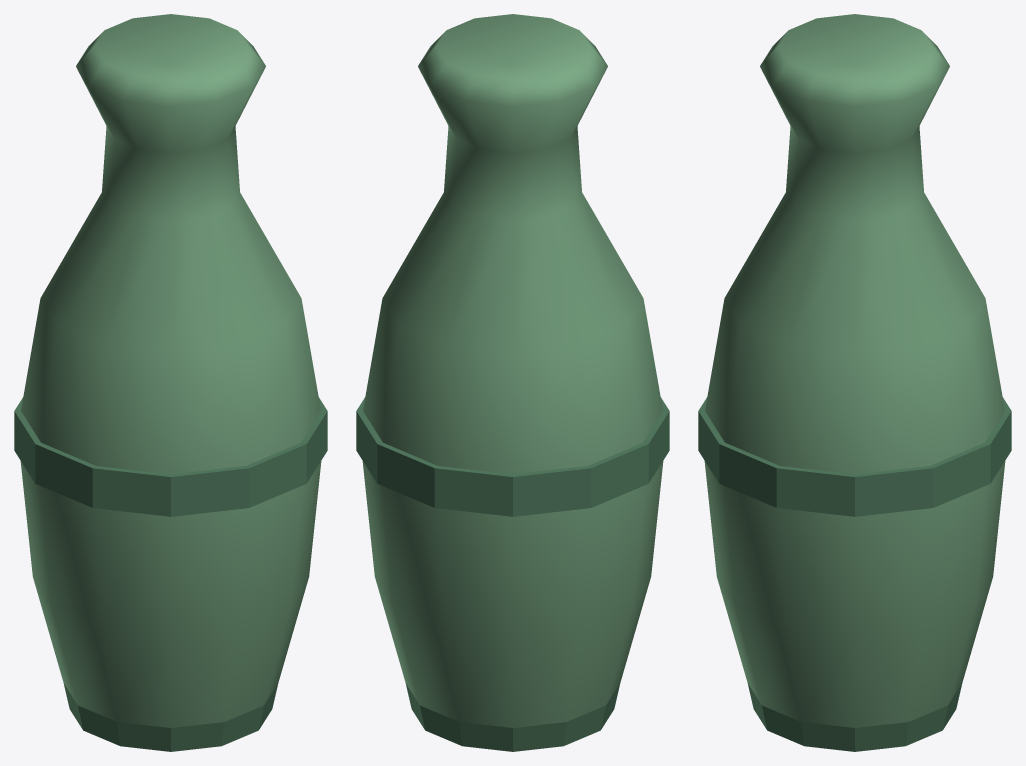
The model's file is green_dungeon_vase_v0.glb.
3 views of the same model, side by side, from view 1: azimuth 30°, elevation 25°; view 2: azimuth 150°, elevation 25°; view 3: azimuth 270°, elevation 25° (orthographic).
Parts seen in each view (by area): view 1: green_dungeon_vase_v0; view 2: green_dungeon_vase_v0; view 3: green_dungeon_vase_v0.
Part boxes in pixels (left/top/right/bottom): green_dungeon_vase_v0: left=14, top=14, right=327, bottom=751; green_dungeon_vase_v0: left=356, top=14, right=669, bottom=751; green_dungeon_vase_v0: left=698, top=14, right=1011, bottom=751.
Bounding box in the file's own units: 0.4284 × 1 × 0.4284.
